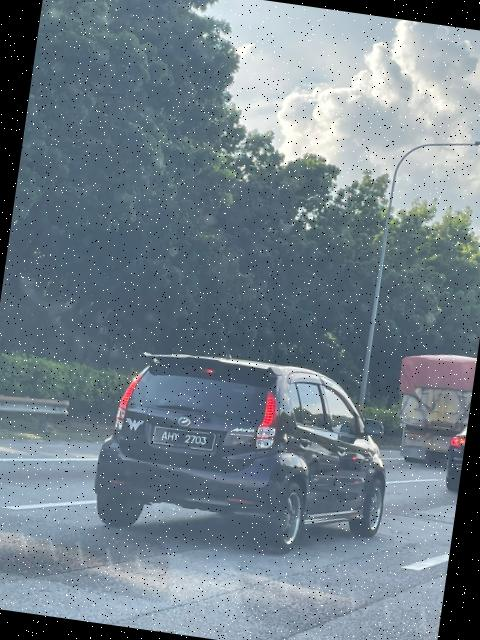License_Plate: (156, 424, 214, 456)
car: (82, 338, 415, 567)
